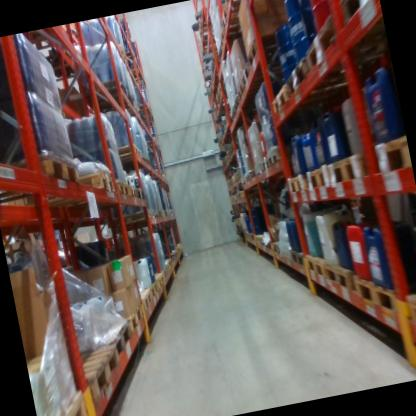pallet: (26, 338, 125, 414), (294, 3, 376, 87), (0, 150, 85, 205), (268, 70, 349, 125), (280, 51, 343, 112), (350, 265, 406, 324), (360, 124, 411, 181), (323, 144, 376, 189), (85, 318, 134, 366), (80, 74, 129, 115), (242, 30, 286, 72), (238, 50, 284, 87), (75, 166, 117, 206), (330, 0, 382, 31), (322, 251, 360, 293), (34, 388, 89, 416), (216, 0, 258, 28), (116, 299, 147, 336), (110, 208, 154, 231), (302, 244, 330, 279), (402, 279, 416, 345), (303, 163, 331, 192), (114, 136, 141, 164), (286, 166, 309, 198), (127, 287, 155, 313), (219, 24, 244, 50), (110, 171, 131, 200), (288, 245, 311, 270), (194, 6, 215, 33), (233, 77, 255, 100), (140, 275, 161, 299), (242, 168, 260, 195), (265, 149, 287, 171), (118, 104, 139, 123), (147, 267, 165, 289), (202, 29, 218, 50), (133, 183, 148, 203), (133, 101, 151, 117), (212, 79, 225, 101), (226, 103, 239, 123), (128, 65, 145, 80), (260, 235, 273, 253), (260, 154, 271, 174), (126, 181, 137, 201), (231, 94, 243, 111), (272, 240, 283, 258), (156, 268, 169, 283), (160, 260, 173, 275), (254, 229, 264, 247), (121, 49, 134, 61), (152, 204, 162, 219), (224, 0, 247, 6)
